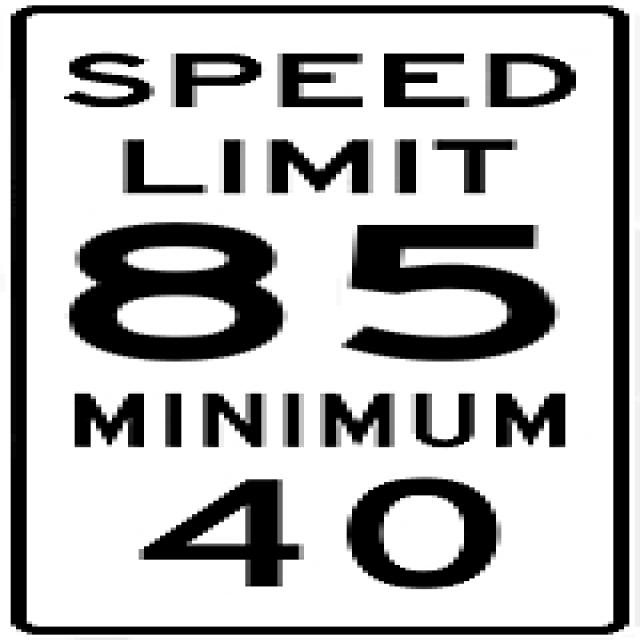speedLimit85: (6, 3, 630, 640)
